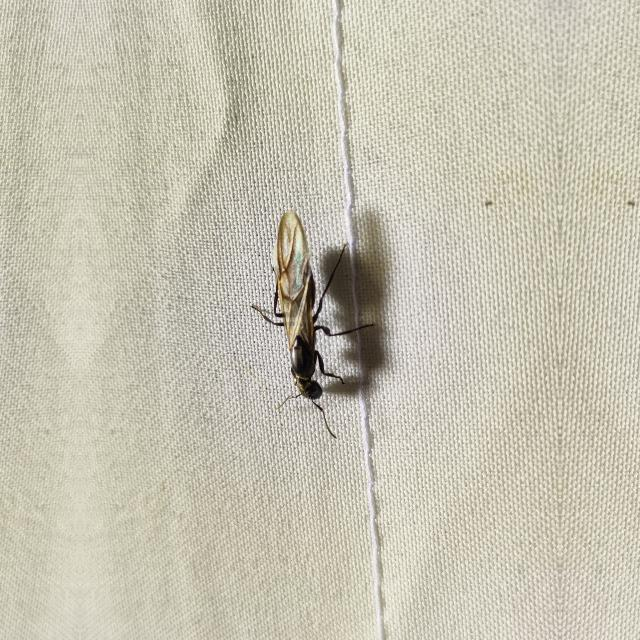Colobopsis: (253, 196, 361, 426)
